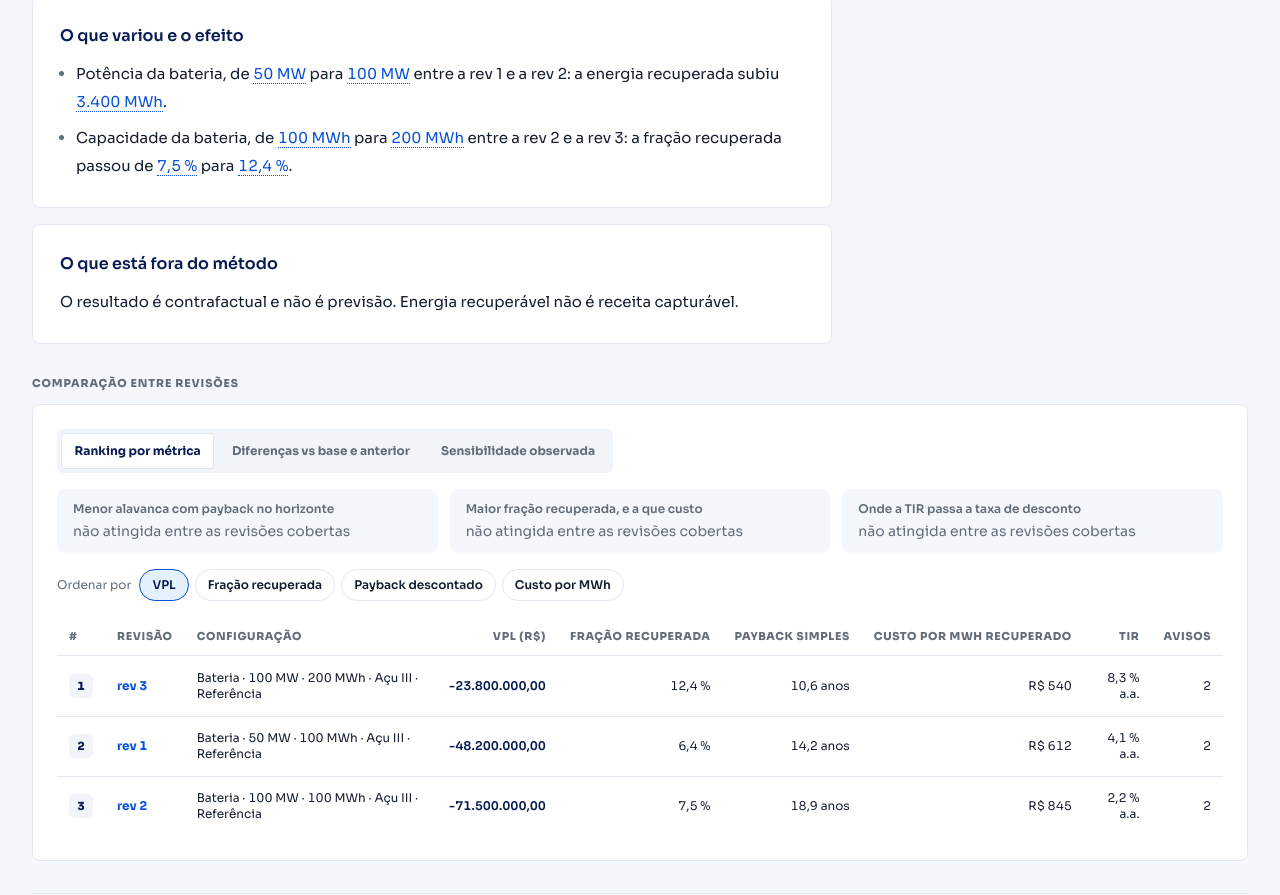
Test: report layout › switches the comparison between "Ranking por métrica", "Diferenças vs base e anterior" and "Sensibilidade observada"
The image size is (1280, 895).
(page scrolled)
Click the tab "Diferenças vs base e anterior".
click(321, 451)  # box [218,433,424,469]
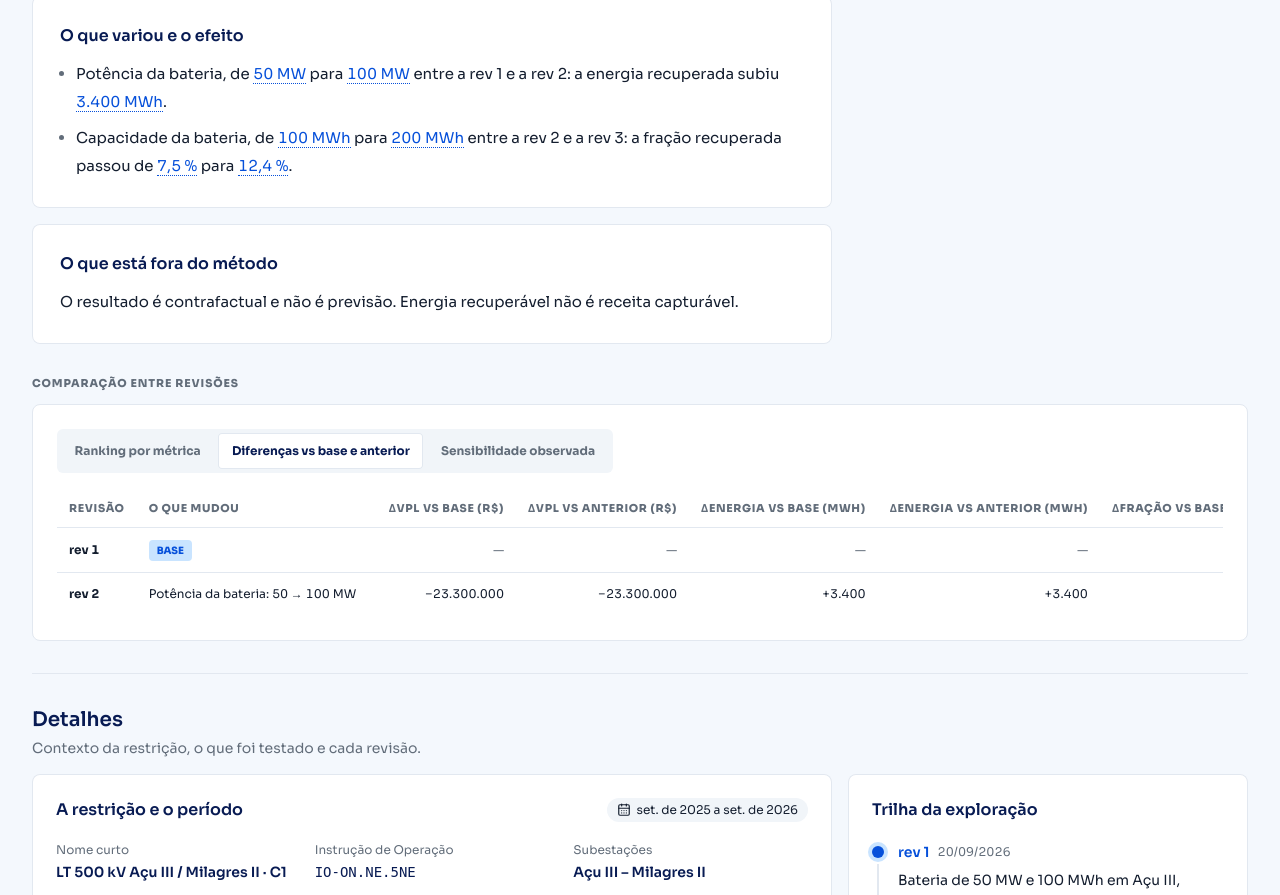
Now the column heading "O que mudou" is shown, box [137,489,377,528]
